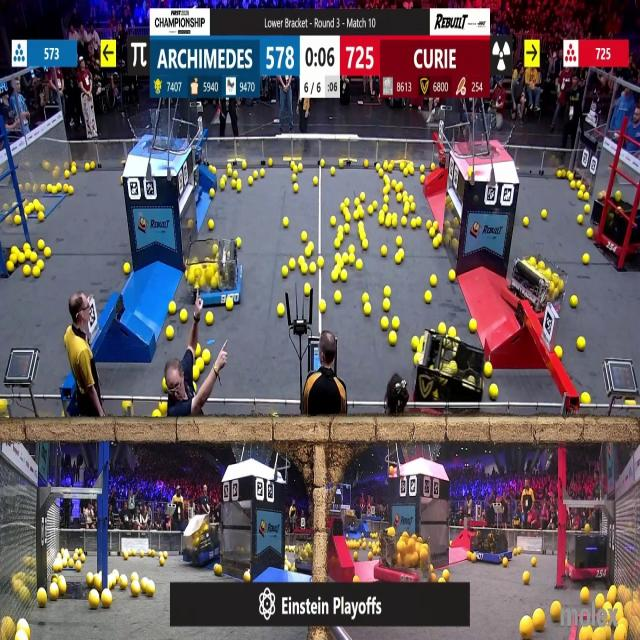ball_ground: (532, 611, 544, 632), (521, 618, 533, 639), (552, 601, 562, 621), (90, 591, 101, 609), (34, 588, 44, 606), (101, 592, 112, 608), (144, 582, 154, 597), (607, 588, 616, 603), (582, 588, 590, 604), (132, 584, 141, 598), (59, 582, 68, 596), (94, 574, 102, 589), (576, 338, 584, 352), (490, 385, 498, 399), (204, 350, 212, 364), (191, 366, 199, 380), (596, 595, 604, 609), (582, 392, 591, 404), (578, 630, 588, 640), (389, 333, 396, 347), (485, 362, 492, 376), (570, 294, 578, 306), (424, 290, 432, 302), (468, 320, 476, 332), (381, 318, 389, 330), (438, 325, 446, 337), (119, 579, 127, 591), (167, 326, 174, 339), (206, 313, 213, 326), (214, 564, 222, 575), (30, 252, 38, 263), (392, 318, 399, 330), (170, 303, 177, 315), (383, 300, 390, 312), (319, 301, 326, 313), (363, 305, 370, 317), (180, 310, 187, 322), (413, 338, 419, 352), (225, 300, 232, 312), (24, 266, 31, 278), (556, 346, 563, 358), (88, 572, 95, 584), (185, 272, 192, 284), (244, 571, 252, 581), (394, 253, 402, 263), (278, 305, 284, 318), (0, 398, 6, 411), (108, 575, 114, 588), (335, 291, 342, 302), (305, 284, 312, 295), (444, 569, 451, 580), (17, 252, 24, 263), (449, 326, 456, 337), (198, 358, 205, 369), (123, 264, 129, 276), (524, 571, 530, 583), (44, 246, 50, 258), (194, 345, 200, 357), (289, 260, 295, 272), (385, 215, 391, 227), (395, 238, 402, 248), (305, 247, 312, 257), (302, 233, 309, 243), (466, 552, 473, 562), (540, 210, 547, 220), (37, 212, 44, 222), (302, 266, 309, 276), (349, 256, 356, 266), (450, 271, 456, 282), (584, 253, 590, 264), (384, 286, 390, 297), (7, 263, 13, 274), (318, 256, 324, 267), (75, 561, 81, 572), (391, 216, 397, 227), (343, 254, 350, 263), (297, 255, 304, 264), (395, 183, 402, 192), (452, 240, 459, 249), (37, 262, 44, 271), (283, 217, 289, 227), (356, 261, 362, 271), (362, 292, 368, 302), (588, 230, 594, 240), (330, 216, 336, 226), (331, 272, 337, 282), (430, 276, 436, 286), (401, 216, 407, 226), (34, 268, 40, 278), (432, 238, 438, 248), (402, 205, 408, 215), (282, 268, 288, 278), (380, 214, 386, 224), (237, 181, 243, 191), (382, 246, 388, 256), (336, 253, 342, 263), (342, 272, 348, 282), (38, 240, 44, 250), (310, 265, 316, 275), (411, 204, 417, 214), (412, 218, 418, 228), (162, 402, 168, 412), (358, 210, 364, 220), (230, 180, 236, 190), (414, 352, 420, 362), (430, 572, 436, 582), (152, 412, 160, 419), (66, 184, 73, 192), (8, 254, 16, 261), (220, 179, 225, 190), (163, 381, 168, 392), (237, 239, 243, 248), (396, 192, 402, 201), (359, 191, 365, 200), (248, 177, 254, 186), (428, 230, 434, 239), (353, 211, 359, 220), (226, 168, 232, 177), (187, 219, 193, 228), (524, 216, 529, 226), (345, 223, 350, 233), (359, 231, 364, 241), (417, 218, 422, 228), (292, 186, 297, 196), (348, 245, 355, 252), (345, 214, 351, 222), (354, 199, 360, 207), (426, 220, 432, 228), (402, 192, 408, 200), (627, 399, 635, 405), (384, 176, 390, 184), (132, 572, 138, 580), (25, 244, 31, 252), (46, 184, 52, 192), (122, 400, 128, 408), (11, 246, 17, 254), (340, 161, 346, 169), (339, 224, 345, 232), (362, 241, 367, 250), (532, 558, 537, 567), (209, 220, 214, 229), (577, 214, 582, 223), (336, 240, 341, 249), (570, 180, 575, 189), (419, 337, 424, 346), (353, 575, 359, 582), (367, 207, 373, 214), (291, 175, 297, 182), (420, 167, 426, 174), (308, 242, 314, 249), (402, 169, 408, 176), (379, 171, 385, 178), (556, 171, 562, 178), (252, 172, 258, 179), (341, 204, 347, 211), (502, 559, 507, 567), (161, 558, 166, 566), (330, 168, 335, 176), (210, 188, 215, 196), (84, 163, 89, 171), (363, 161, 368, 169), (259, 170, 264, 178), (384, 185, 389, 193), (242, 162, 247, 170), (92, 162, 97, 170), (65, 171, 70, 179), (14, 216, 19, 224), (345, 200, 350, 208), (577, 190, 582, 198), (164, 552, 169, 560), (585, 191, 590, 199), (432, 221, 437, 229), (58, 183, 63, 191), (297, 165, 302, 173), (410, 168, 415, 176), (568, 172, 573, 180), (376, 164, 381, 172), (384, 163, 388, 172), (420, 176, 425, 183), (384, 195, 389, 202), (320, 161, 325, 168), (371, 202, 376, 209), (430, 165, 435, 172), (339, 234, 344, 241), (290, 163, 295, 170), (314, 177, 318, 185), (586, 206, 590, 214), (270, 160, 274, 168), (354, 554, 358, 562), (212, 166, 216, 174), (123, 554, 128, 560), (140, 552, 145, 558), (515, 549, 520, 555), (72, 168, 76, 175), (410, 194, 414, 201), (234, 171, 238, 178), (368, 554, 372, 561), (384, 205, 388, 212), (150, 552, 154, 559), (119, 177, 123, 184)
goal: (461, 118, 518, 158), (128, 115, 187, 152)
robot_blue: (187, 242, 246, 310), (179, 520, 221, 569), (472, 526, 509, 564), (340, 510, 367, 541)
robot_red: (410, 330, 484, 416), (512, 255, 566, 312), (377, 530, 428, 584), (564, 529, 609, 582)
